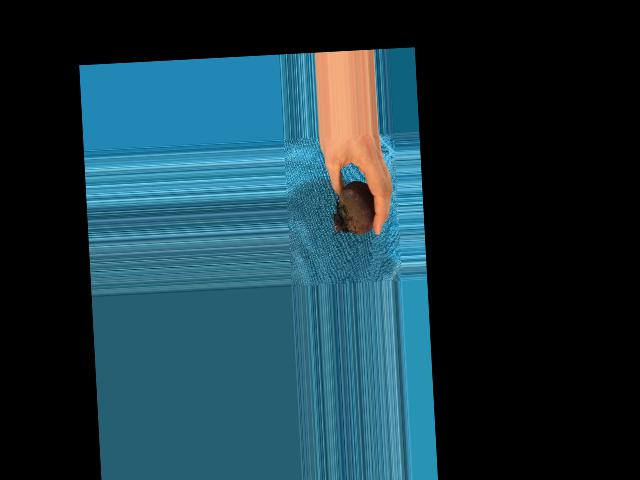beet: (330, 180, 375, 236)
